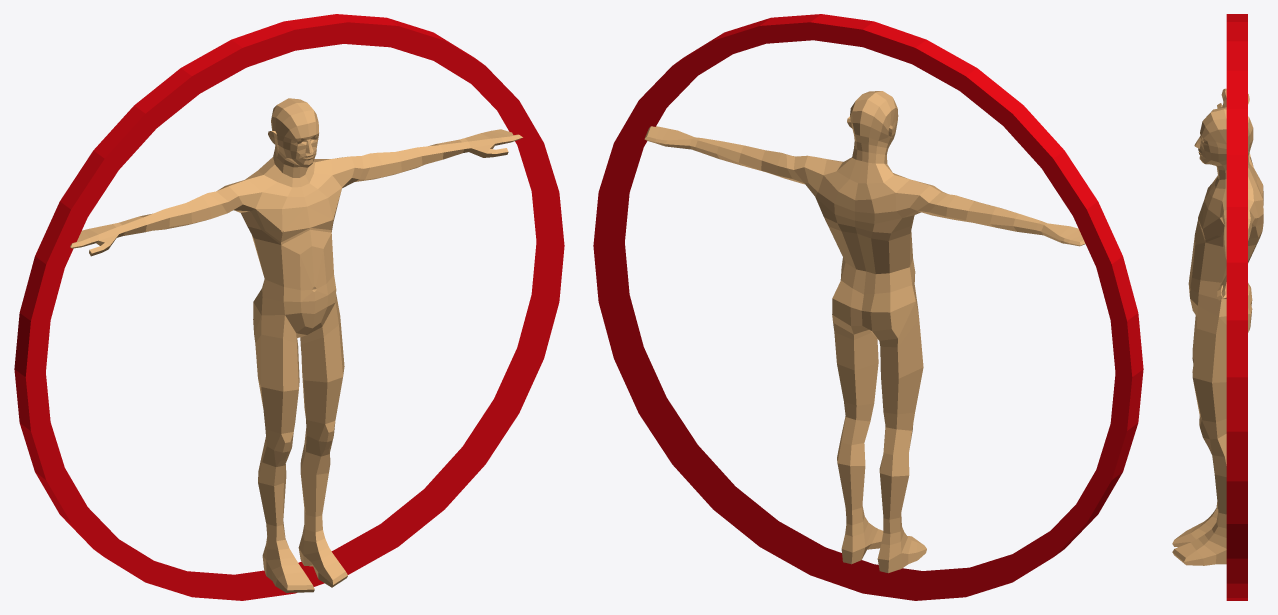
File: Human.gltf
3 renders of one model, left to right at view 1: azimuth 30°, elevation 25°; view 2: azimuth 150°, elevation 25°; view 3: azimuth 270°, elevation 25°, orthographic. The views are drawn at different scales.
Visible parts, largest first — view 1: Circle, male; view 2: Circle, male; view 3: male, Circle.
Part boxes in pixels (bbox=[...]): Circle: bbox=[14, 14, 564, 600]; male: bbox=[70, 98, 522, 592]; Circle: bbox=[593, 14, 1143, 600]; male: bbox=[644, 91, 1085, 573]; male: bbox=[1172, 88, 1263, 565]; Circle: bbox=[1226, 14, 1247, 600].
Bounding box in the file's own units: 3.98 × 3.98 × 0.6204.
